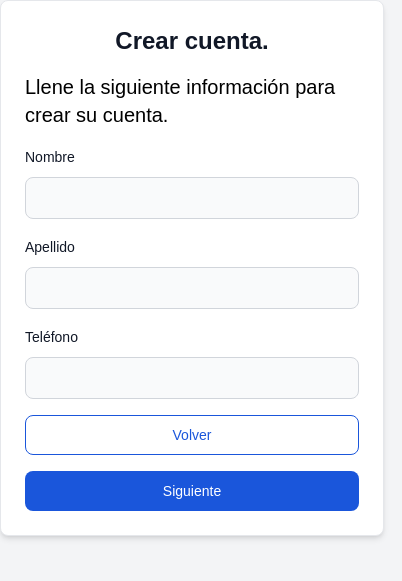
it: PersonalInformation › shows validation error for empty name field
In the field labelled "Apellido": coordinates (192, 288) [25, 267, 359, 309], type "Doe"
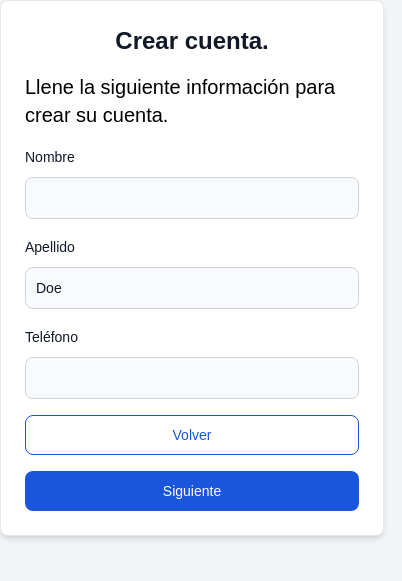
In the field labelled "Teléfono": coordinates (192, 378) [25, 357, 359, 399], type "1234567890"
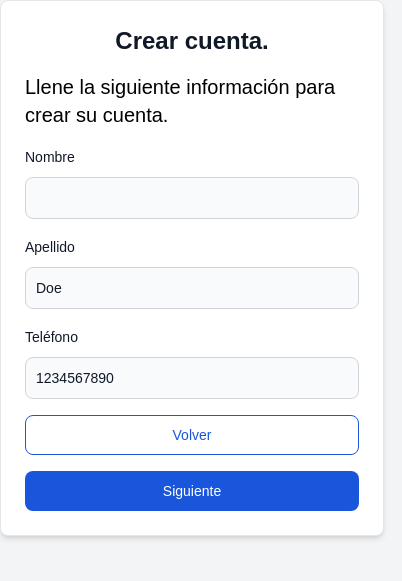
Click the button "Siguiente": coordinates (192, 491) [25, 471, 359, 511]
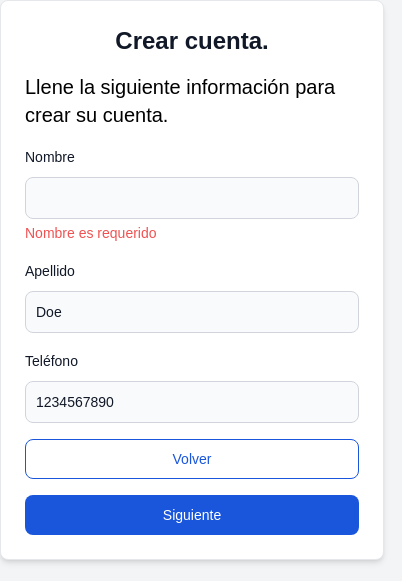
Expected: the text "Nombre es requerido" is shown, [25, 225, 156, 241]
